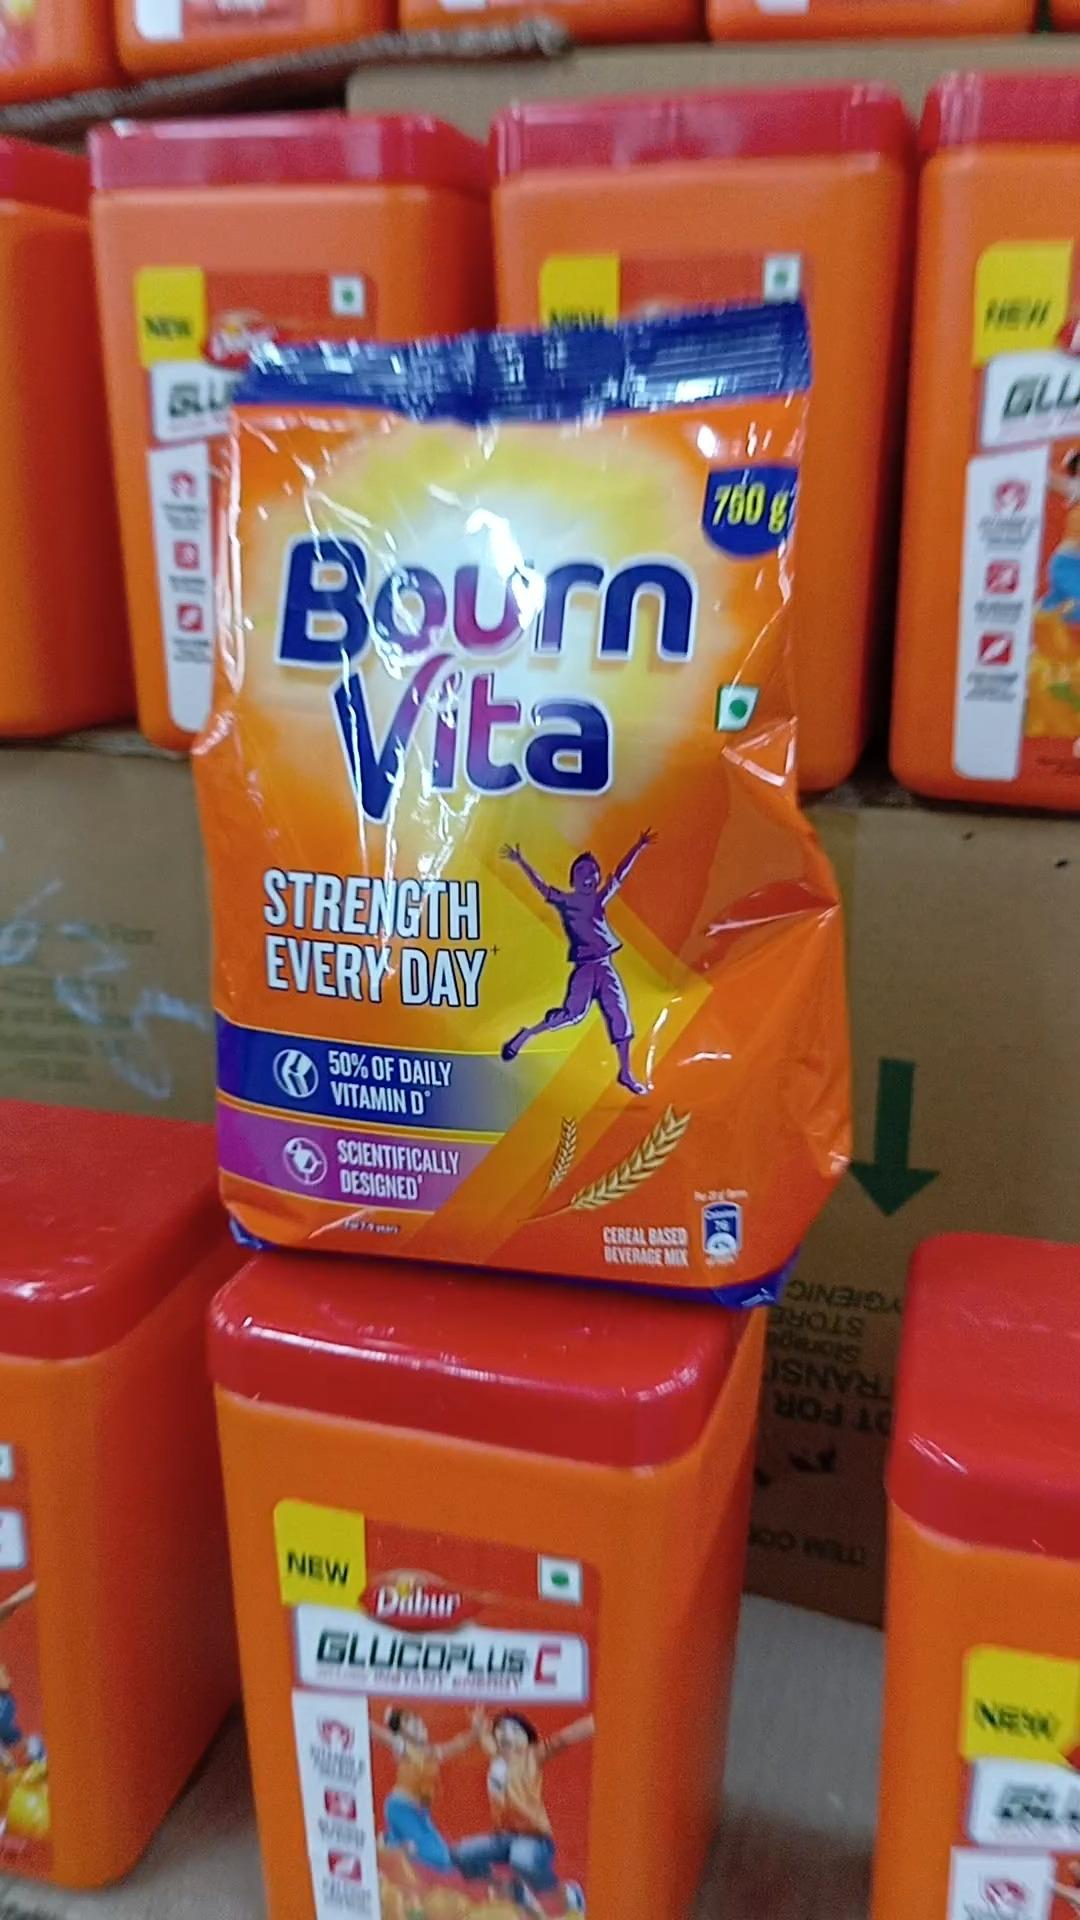BOURN_VITA_750_G_POUCH: (196, 307, 773, 1295)
